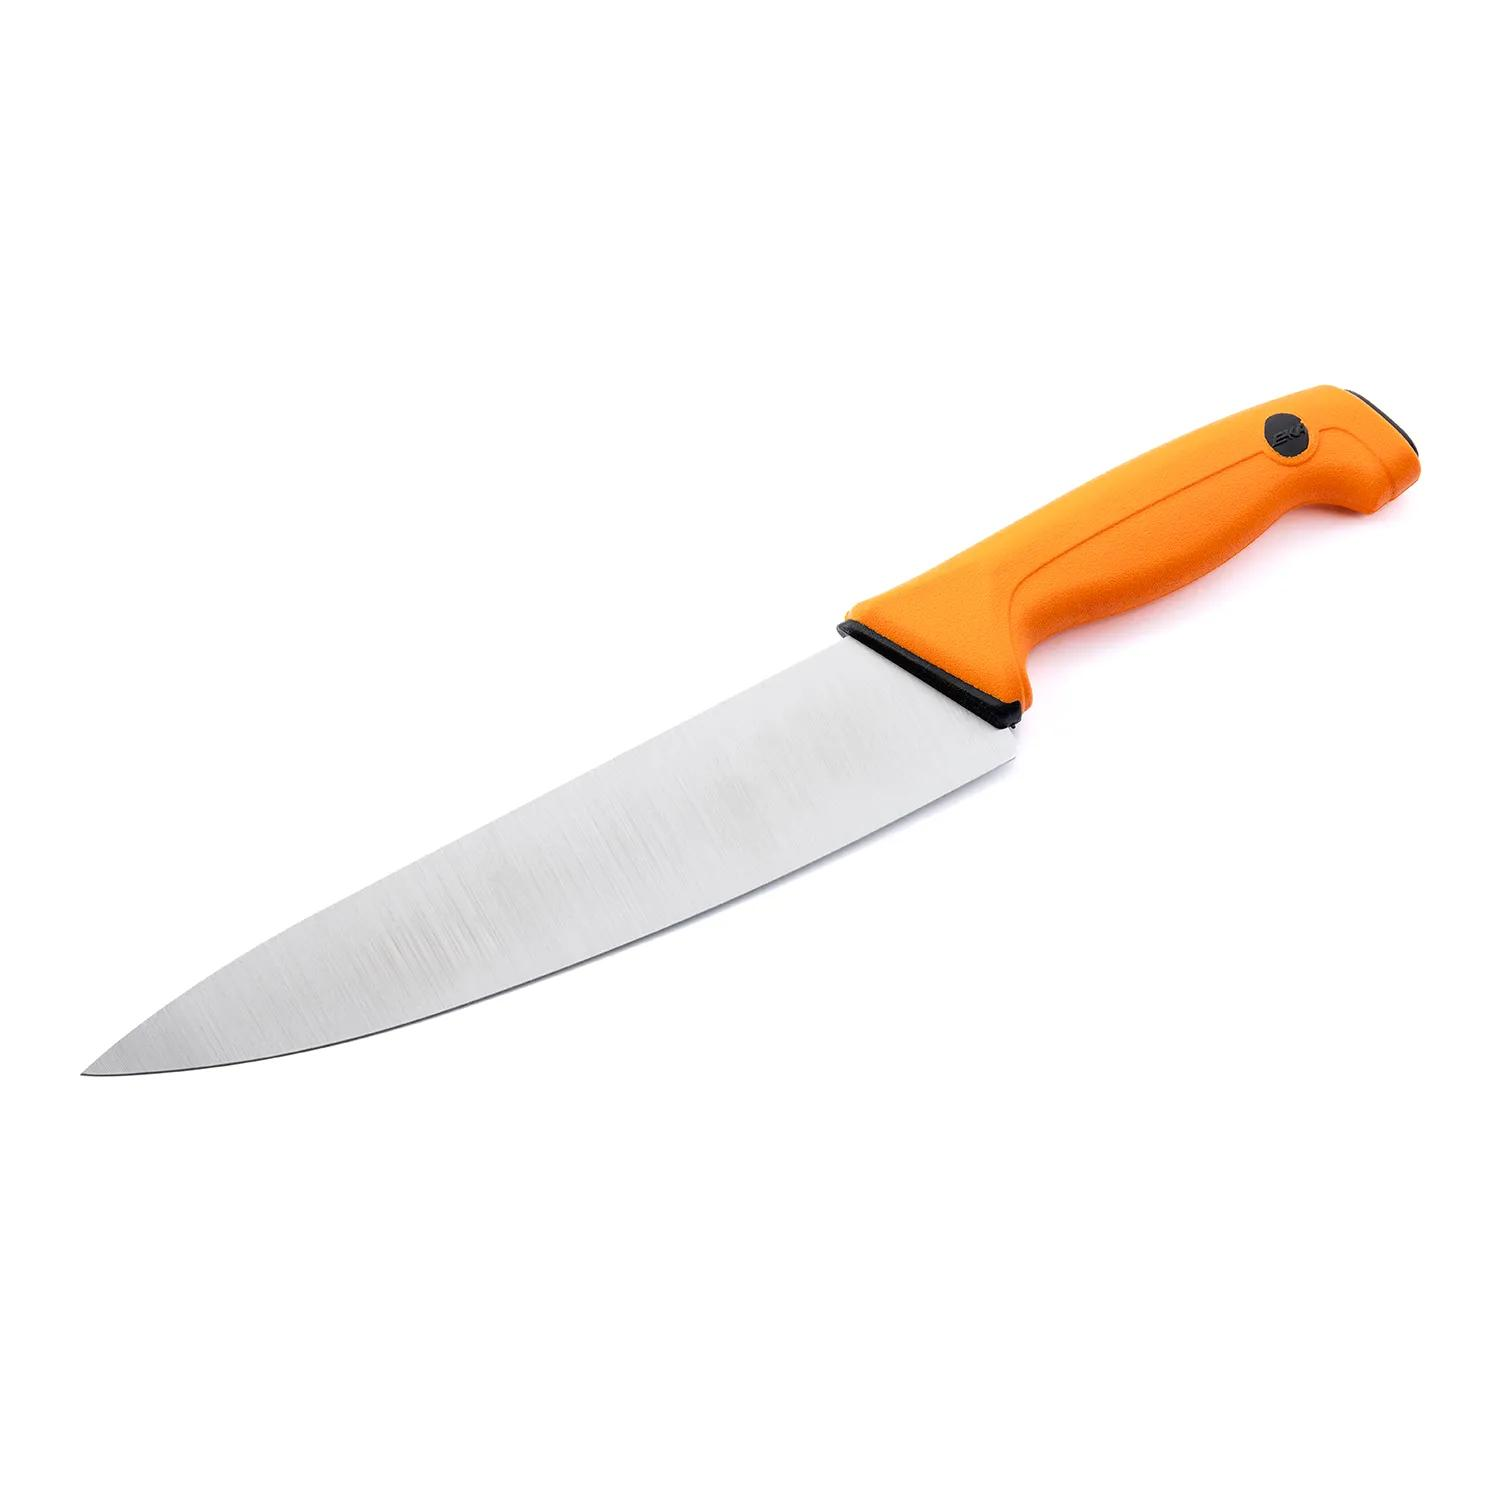Knife: (80, 380, 1420, 1080)
